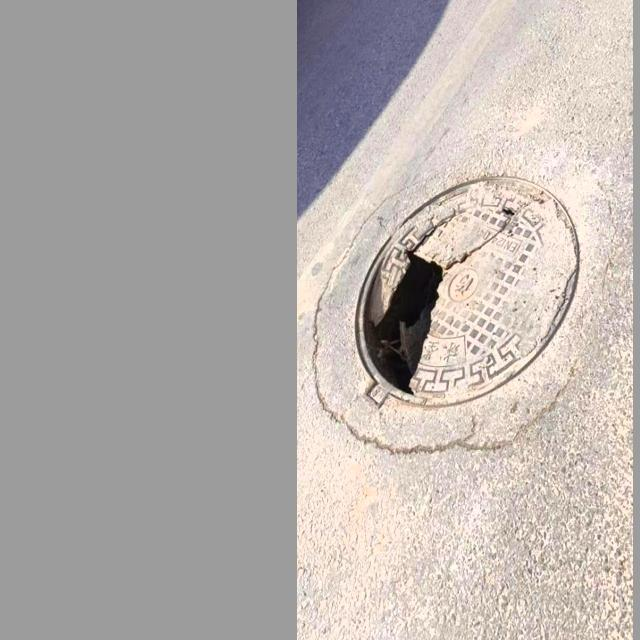broke: (315, 159, 606, 474)
